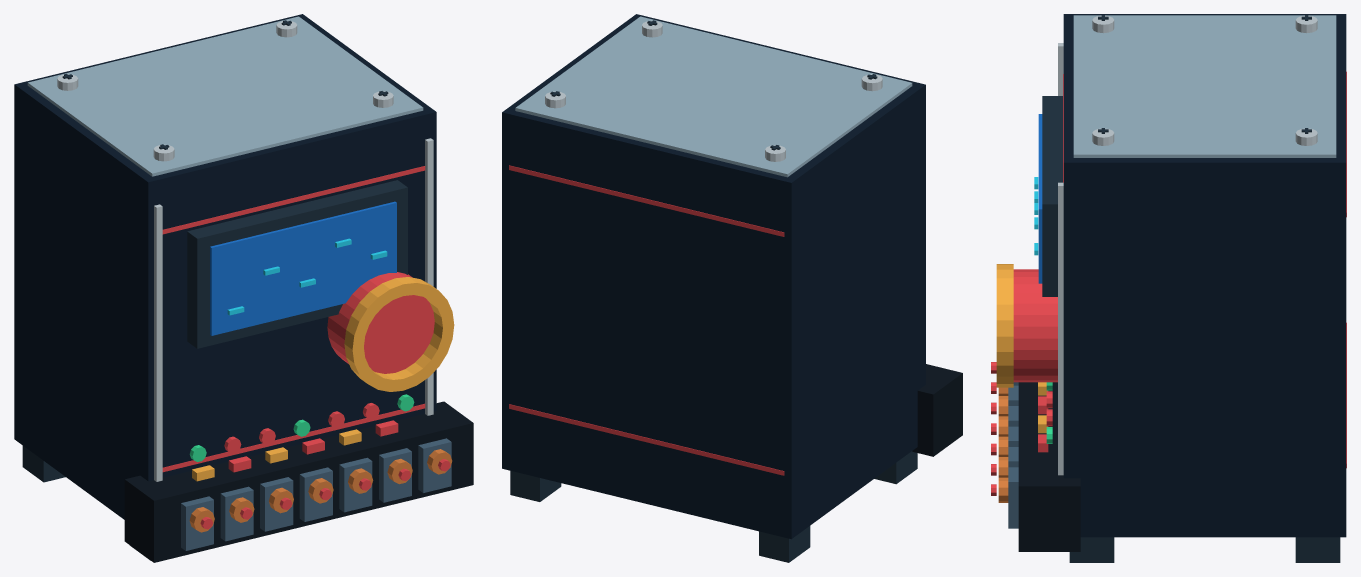
The model's file is 55_L75_EmergencyImplantationSafetyStation.fbx.
3 views of the same model, side by side, from view 1: azimuth 30°, elevation 25°; view 2: azimuth 150°, elevation 25°; view 3: azimuth 270°, elevation 25° (orthographic). The views are drawn at different scales.
Visible parts, largest first — view 1: EmergencyImplantationSafetyStation, EmergencyImplantationSafetyStation_Part_0064, EmergencyImplantationSafetyStation_Part_0065; view 2: EmergencyImplantationSafetyStation; view 3: EmergencyImplantationSafetyStation, EmergencyImplantationSafetyStation_Part_0064, EmergencyImplantationSafetyStation_Part_0065.
Boxes of the visible parts, x1,y1,x2,y2 form: EmergencyImplantationSafetyStation: (14,14,473,562); EmergencyImplantationSafetyStation_Part_0064: (327,272,434,373); EmergencyImplantationSafetyStation_Part_0065: (344,277,454,391); EmergencyImplantationSafetyStation: (502,14,962,562); EmergencyImplantationSafetyStation: (991,14,1346,562); EmergencyImplantationSafetyStation_Part_0064: (1013,269,1057,382); EmergencyImplantationSafetyStation_Part_0065: (996,264,1013,387).
Bounding box in the file's own units: 113 × 134 × 103.
